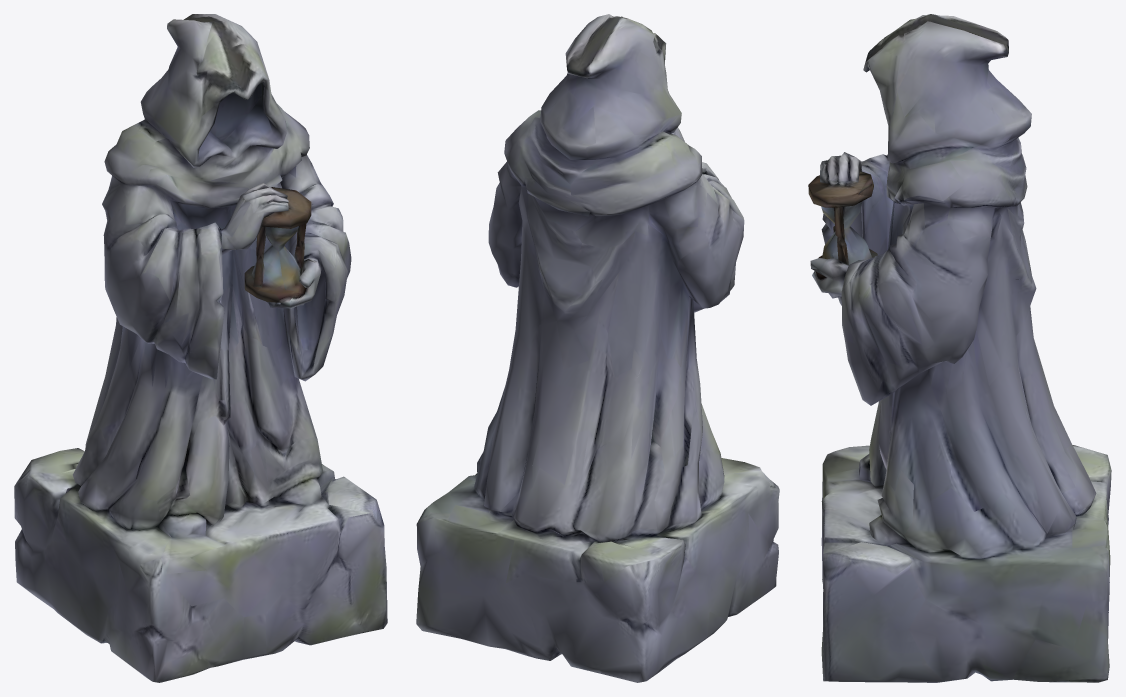
File: watcher_statue.glb
The picture shows the model from 3 angles, left to right: view 1: azimuth 30°, elevation 25°; view 2: azimuth 150°, elevation 25°; view 3: azimuth 270°, elevation 25°; orthographic projection. The views are drawn at different scales.
Parts seen in each view (by area): view 1: watcher_statue; view 2: watcher_statue; view 3: watcher_statue.
Boxes of the visible parts, x1,y1,x2,y2 form: watcher_statue: (14,14,387,682); watcher_statue: (416,14,779,682); watcher_statue: (808,14,1111,682).
Size of the model in its own units: 1.39 by 3.3 by 1.48.
1 material, 1 textured.
